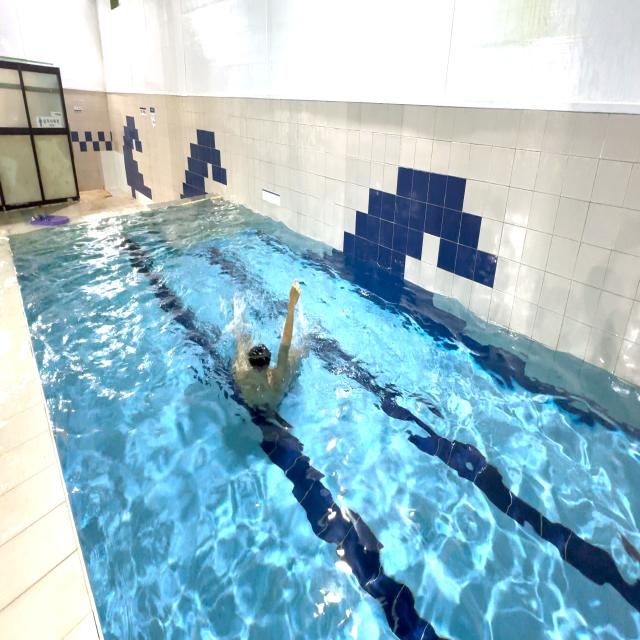Drowning: (214, 262, 314, 428)
